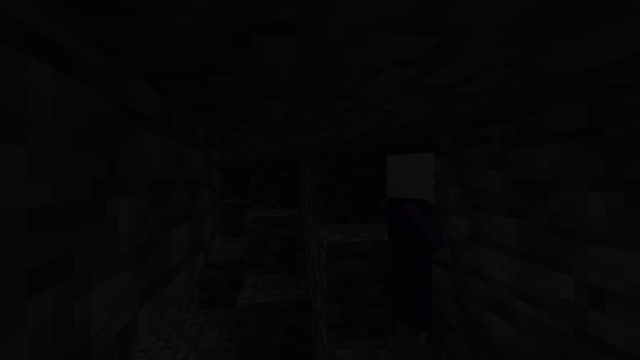sorcieres: (380, 144, 435, 355)
